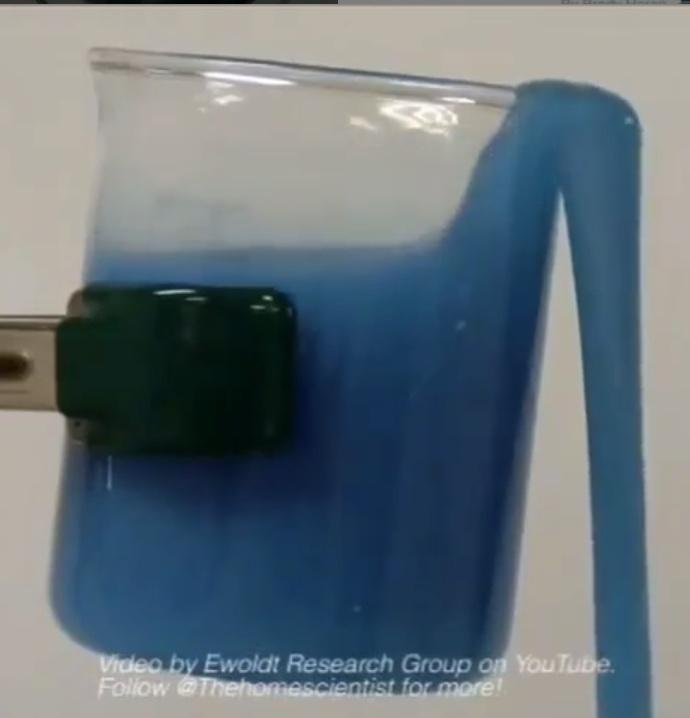Beaker: (57, 36, 643, 693)
